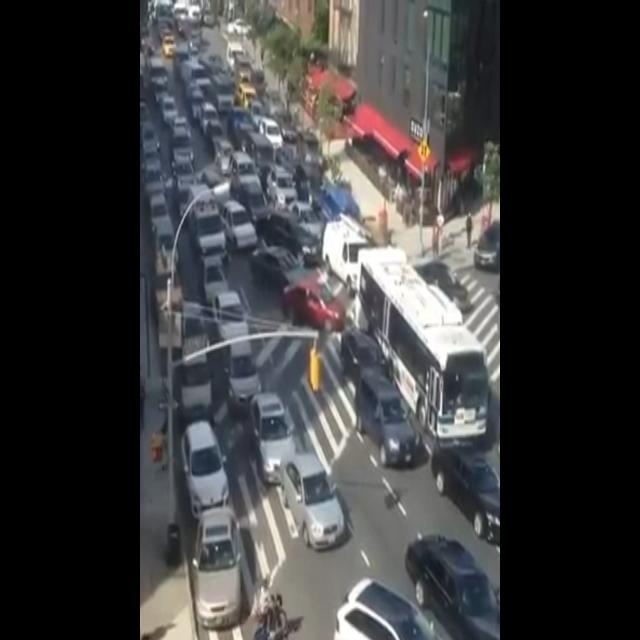Ambulance: (183, 177, 238, 275)
